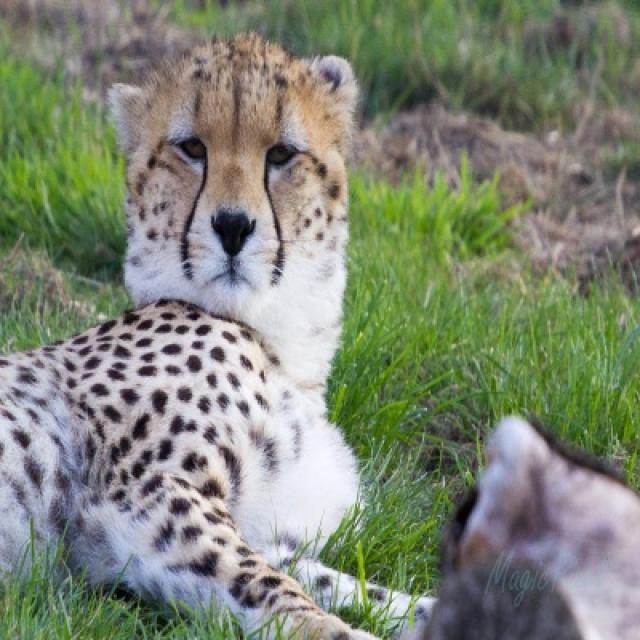Cheetah: (0, 18, 381, 638)
